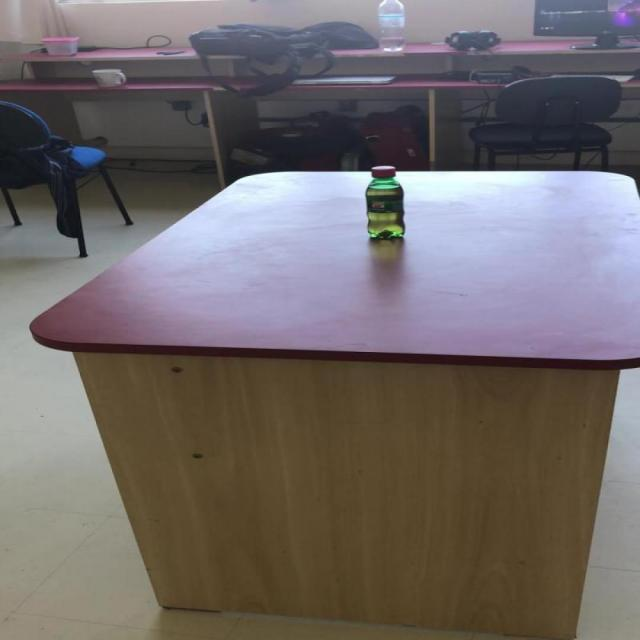Guarana: (364, 165, 404, 238)
